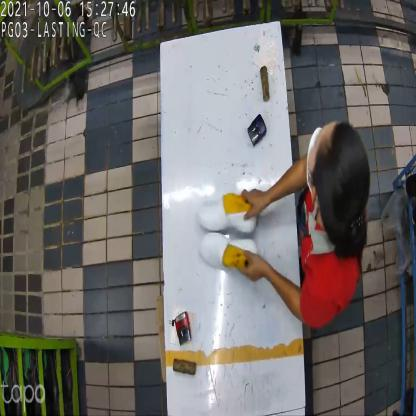shoes: (198, 190, 258, 277)
stamp: (173, 312, 195, 344), (248, 112, 266, 147)
